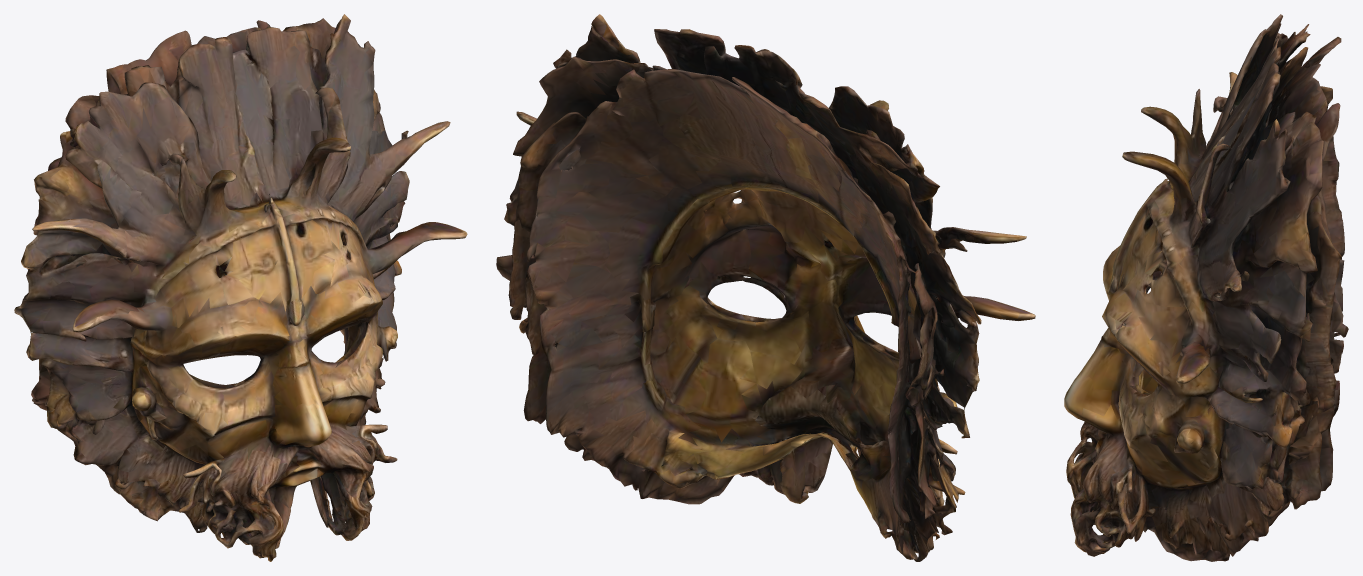
File: mask-d.glb
The picture shows the model from 3 angles, left to right: view 1: azimuth 30°, elevation 25°; view 2: azimuth 150°, elevation 25°; view 3: azimuth 270°, elevation 25°; orthographic projection. The views are drawn at different scales.
Visible parts, largest first — view 1: mask-k; view 2: mask-k; view 3: mask-k.
Part boxes in pixels (bbox=[...]): mask-k: bbox=[14, 14, 467, 561]; mask-k: bbox=[496, 14, 1035, 561]; mask-k: bbox=[1064, 14, 1348, 561].
Bounding box in the file's own units: 0.3094 × 0.3159 × 0.1682.
Materials: 1 (1 with a texture image).
